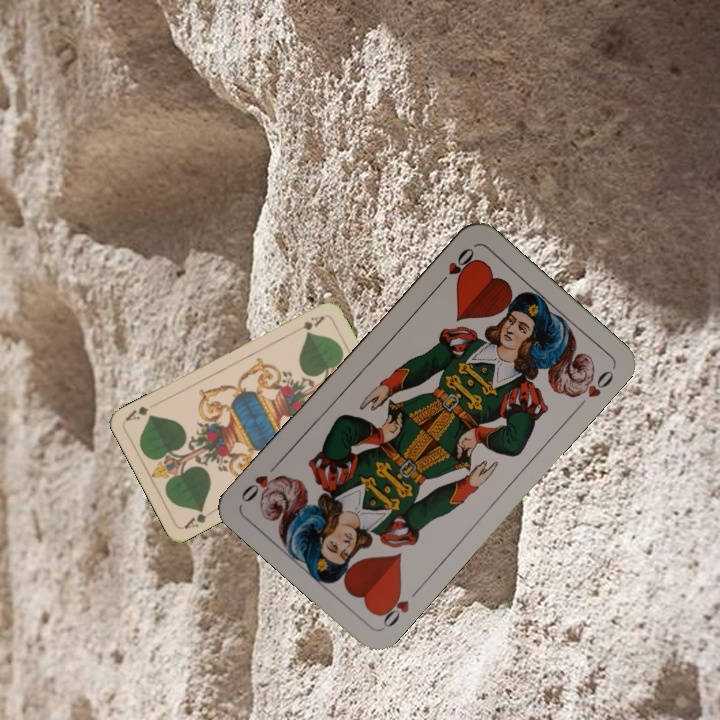GA: (289, 311, 327, 336), (180, 504, 210, 532)
HO: (374, 583, 423, 631), (432, 243, 477, 291)
